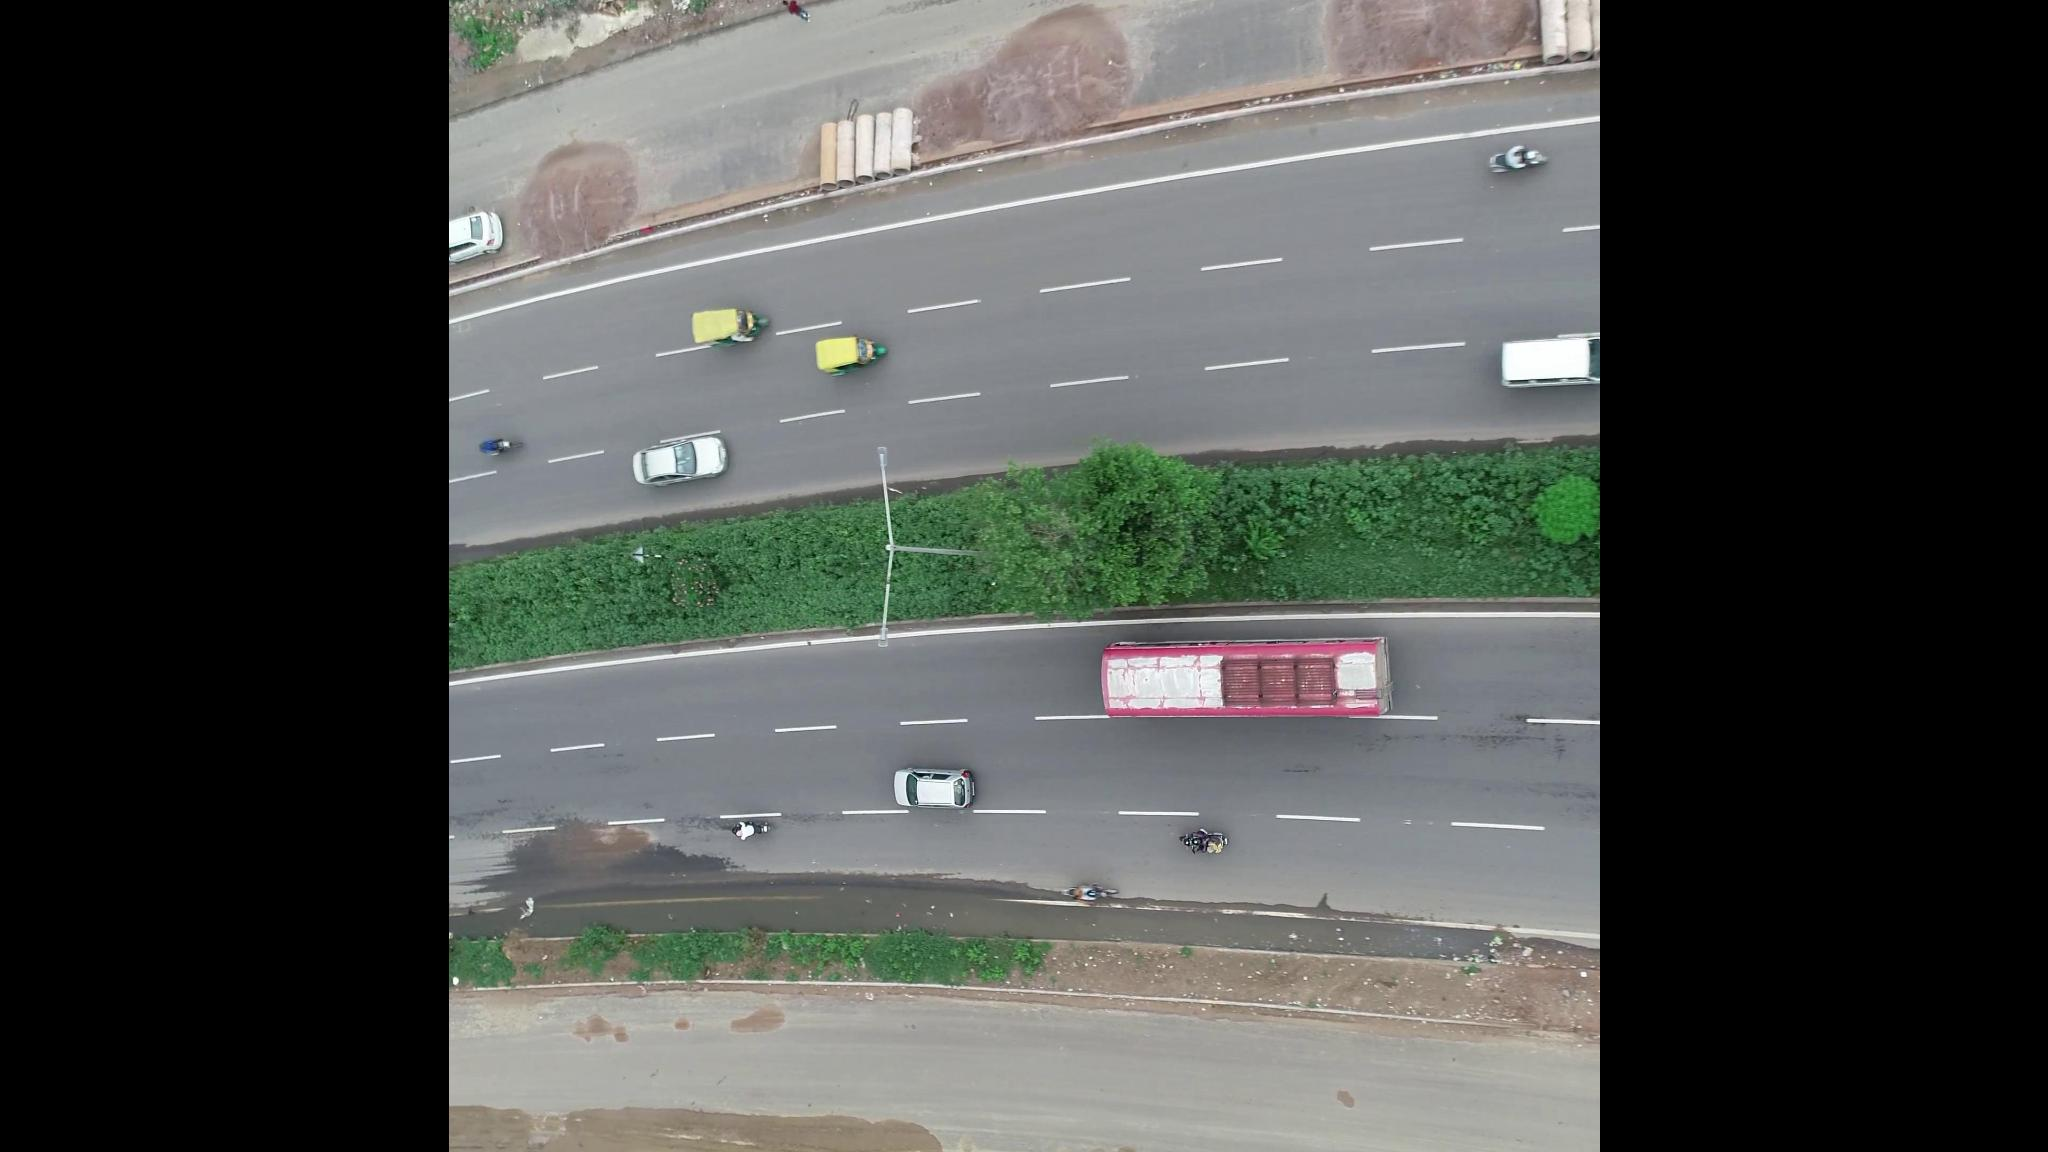Muddy_road: (942, 35, 1100, 138), (575, 1113, 945, 1152), (533, 149, 639, 253), (563, 813, 655, 871)
Waterlogging: (527, 879, 1018, 942)
